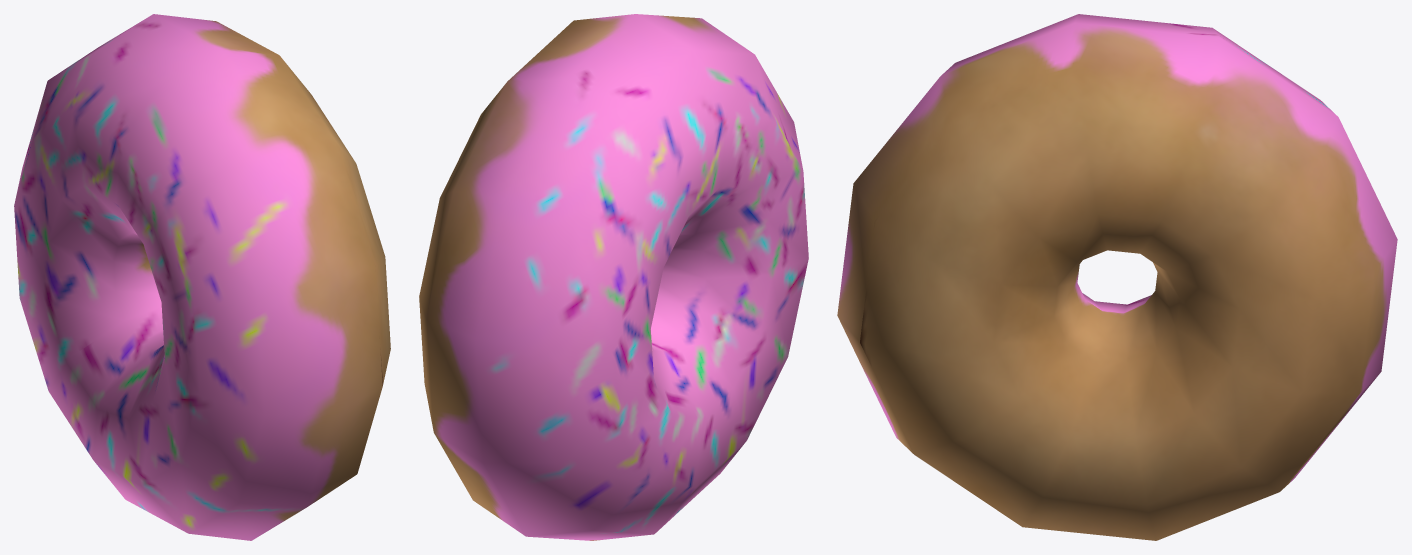
The model's file is Donut.fbx.
3 views of the same model, side by side, from view 1: azimuth 30°, elevation 25°; view 2: azimuth 150°, elevation 25°; view 3: azimuth 270°, elevation 25° (orthographic). The views are drawn at different scales.
Visible parts, largest first — view 1: Donut_01; view 2: Donut_01; view 3: Donut_01.
Boxes of the visible parts, <box> form: Donut_01: <box>14,14,390,540</box>; Donut_01: <box>419,14,808,540</box>; Donut_01: <box>837,14,1397,540</box>.
Bounding box in the file's own units: 0.0348 × 0.0835 × 0.0835.
